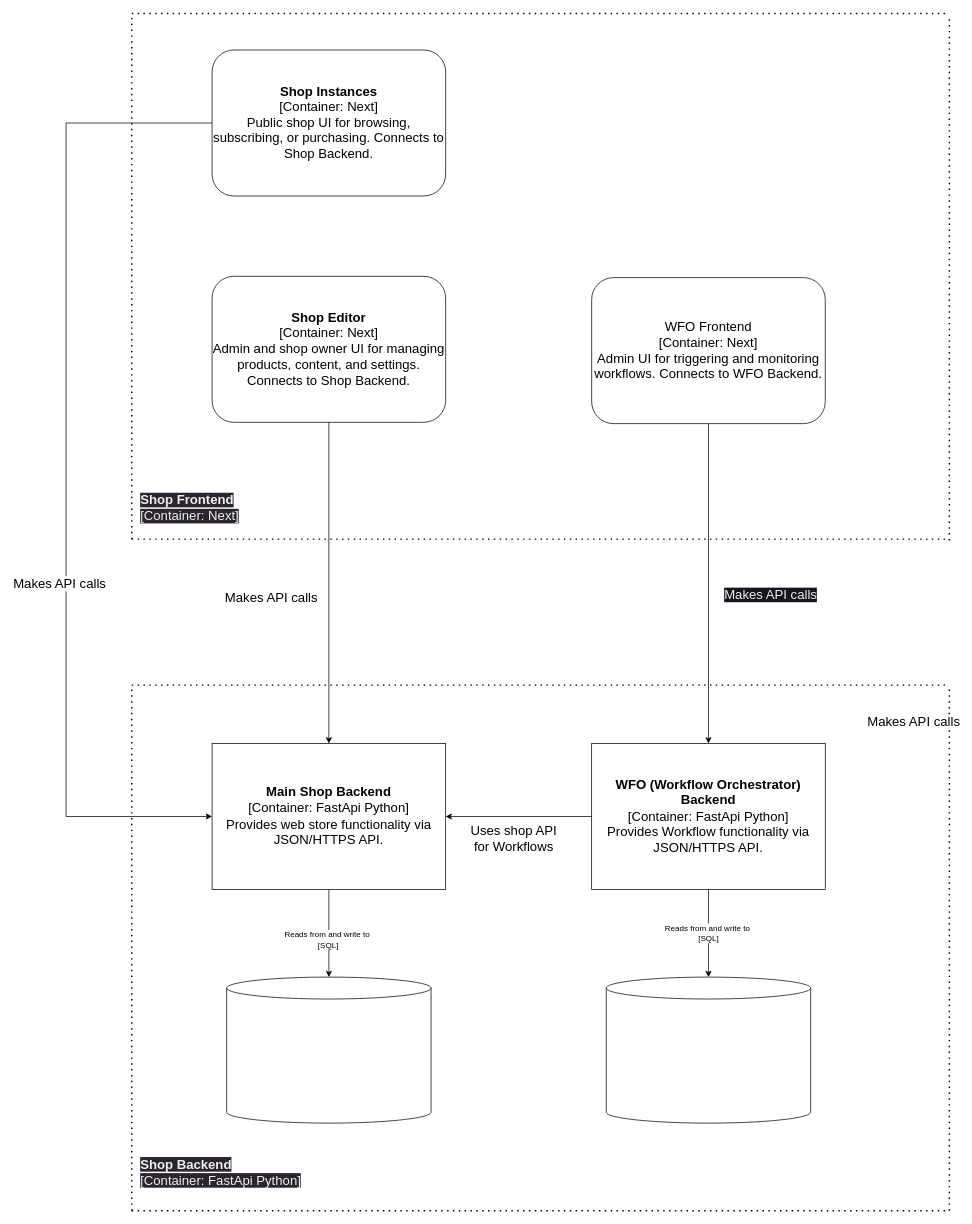
Image size: 972x1224. Some labels were removed from this diagram. Each missing label, with the centre of its shape:
"Shop Databse [Container: Postgress] Sores data for the shop" goes at (x=328, y=1049).
"WFO Databse [Container: Postgress] Sores data for the WFO" goes at (x=708, y=1049).
